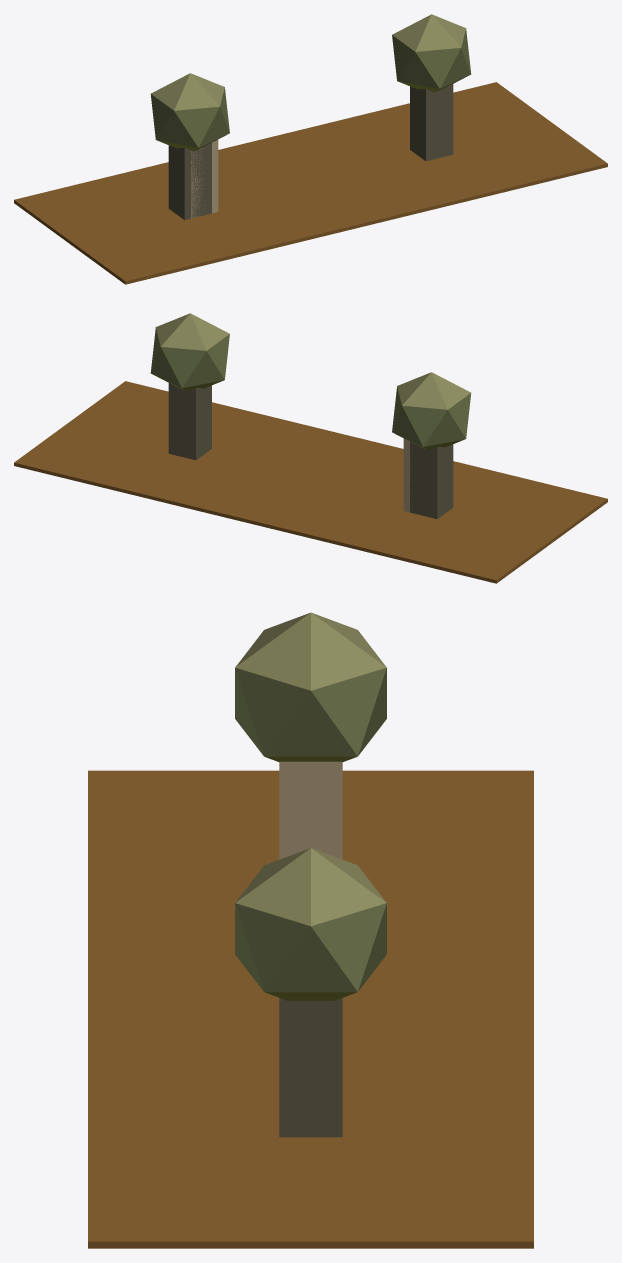
The model's file is SM_Naranjos_v1_Jovenes_LOD1.fbx.
The picture shows the model from 3 angles, top to bottom: view 1: azimuth 30°, elevation 25°; view 2: azimuth 150°, elevation 25°; view 3: azimuth 270°, elevation 25°; orthographic projection. The views are drawn at different scales.
Visible parts, largest first — view 1: SM_viveres_nules_v1_LOD1; view 2: SM_viveres_nules_v1_LOD1; view 3: SM_viveres_nules_v1_LOD1.
Boxes of the visible parts, bbox=[...] form: SM_viveres_nules_v1_LOD1: bbox=[14, 14, 607, 284]; SM_viveres_nules_v1_LOD1: bbox=[14, 313, 607, 583]; SM_viveres_nules_v1_LOD1: bbox=[88, 612, 533, 1248].
Bounding box in the file's own units: 6 × 1.68 × 2.4.
